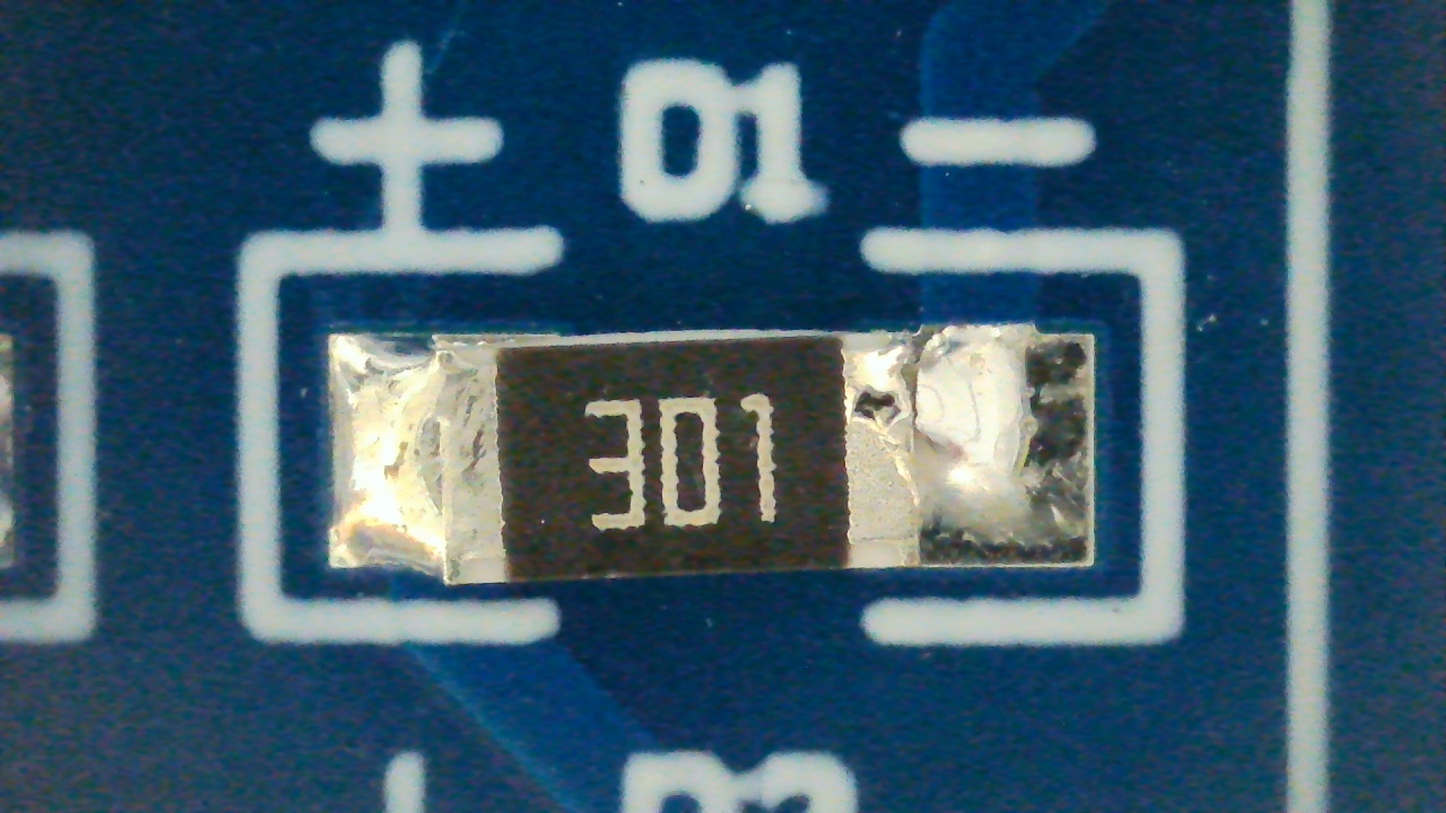OK: (328, 324, 1095, 586)
